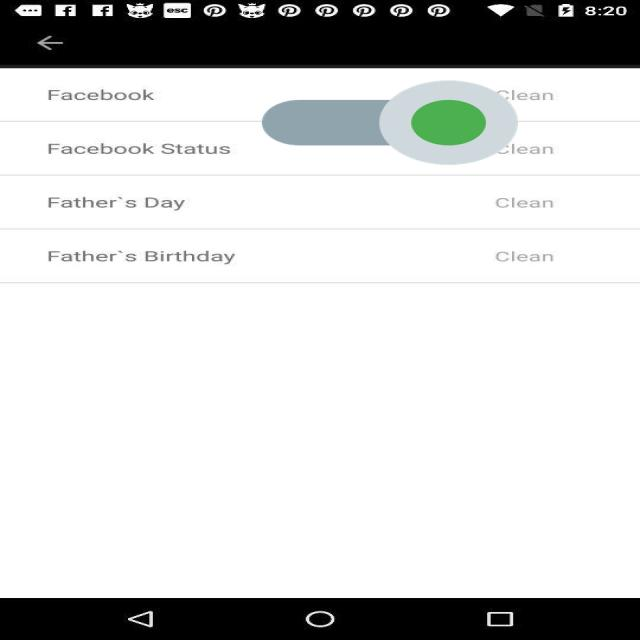social proof: (262, 44, 518, 200)
